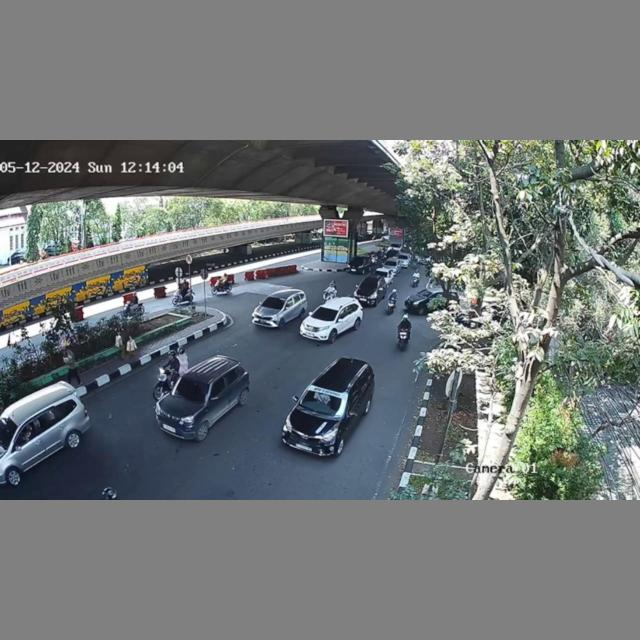windshield: (300, 386, 347, 415), (171, 377, 210, 404), (310, 306, 340, 322), (260, 296, 286, 310)
